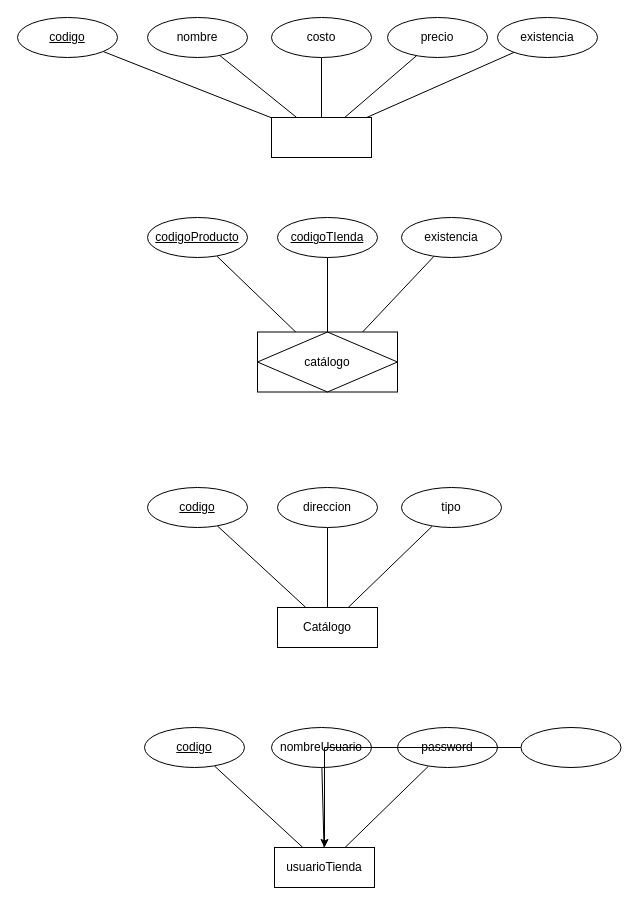
The diagram is 639 pixels wide and 905 high, and some of its shapes have lost their labels. The box of each missing label's shape, as (x1, y1, x2, y2) in pixels:
email: (520, 726, 621, 768)
Producto: (270, 116, 372, 158)
